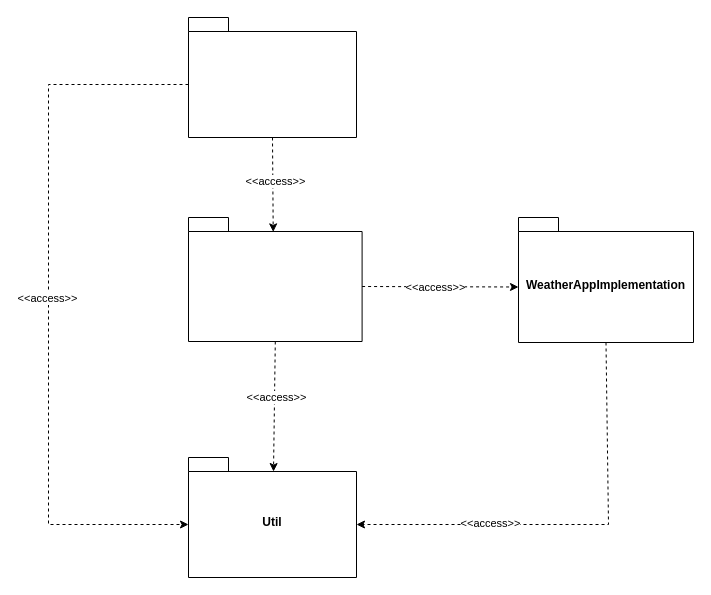
The diagram is 711 pixels wide and 595 high, and some of its shapes have lost their labels. The shapes that lost their labels are listed below. From the top down, each one's centre as x and y in pixels, then its label:
[272,77]: StartUp
[275,279]: WeatherAppGUI
